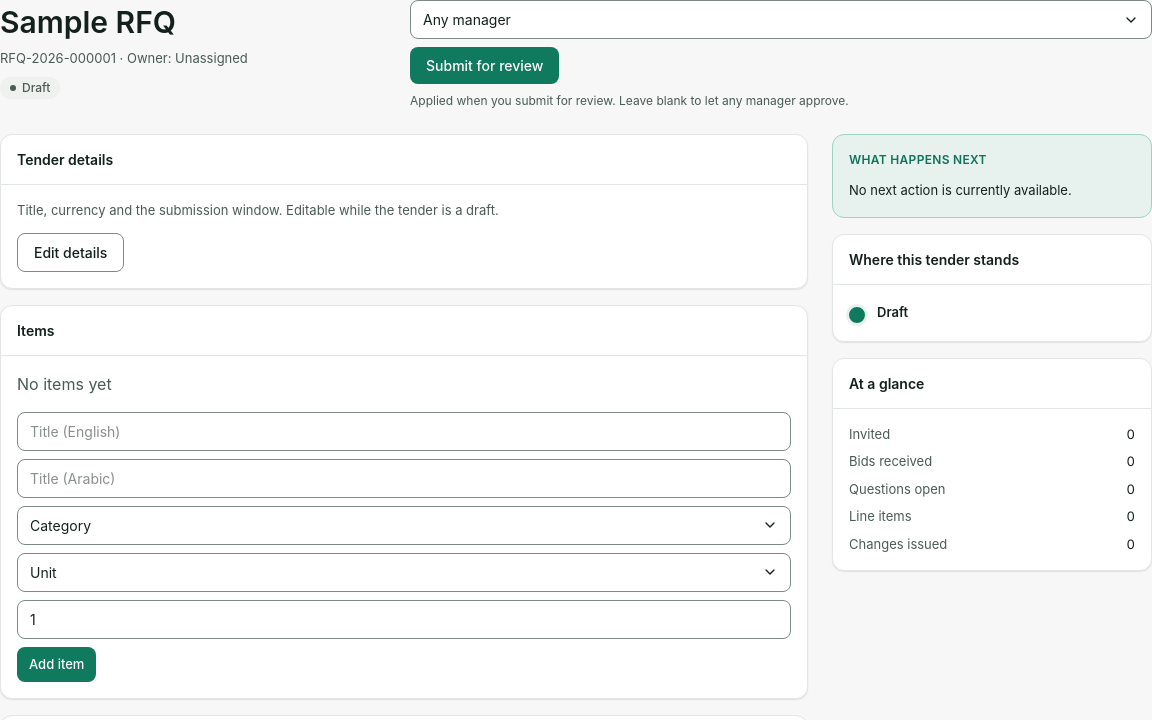
Test case: RfqDetailPage › Draft: shows editable item/requirement/template-bind controls, and adding an item succeeds
Expected: the button "Submit for review" is shown, [410,47,559,84]
Expected: the button "Add item" is shown, [17,646,96,682]
Type "Cleaning supplies" into the field labelled "Title (English)" at (404, 431), box [17,412,791,450]
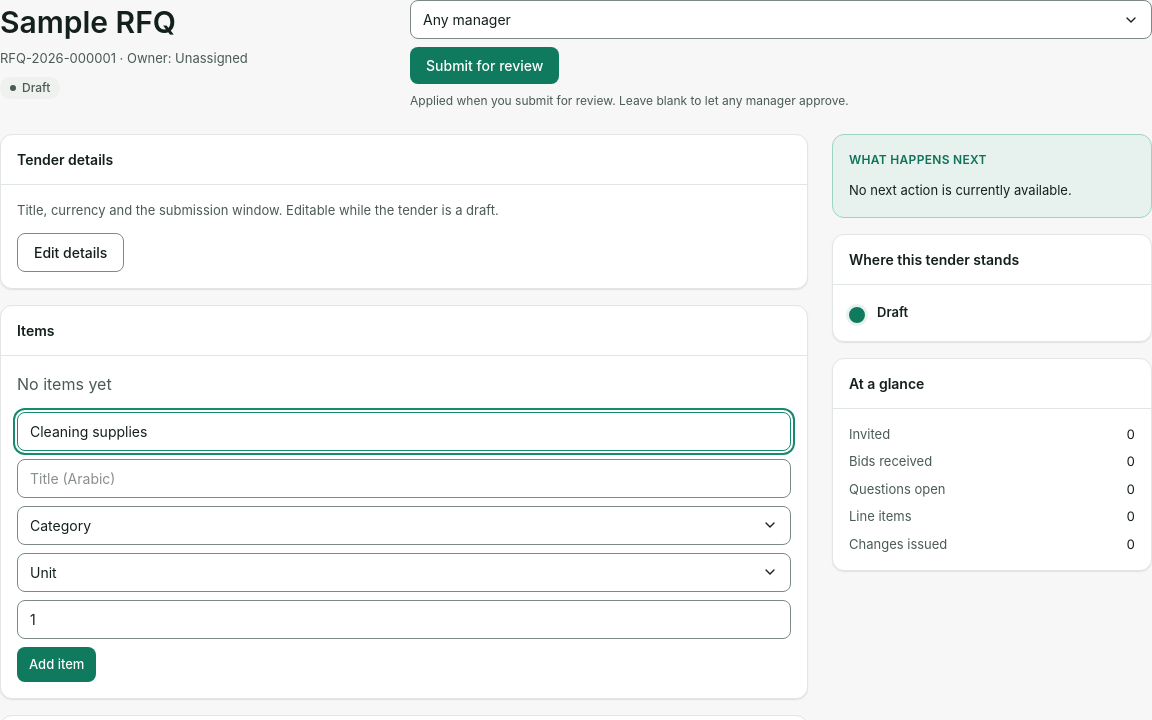
Type "مستلزمات تنظيف" into the field labelled "Title (Arabic)" at (404, 478), box [17,458,791,498]
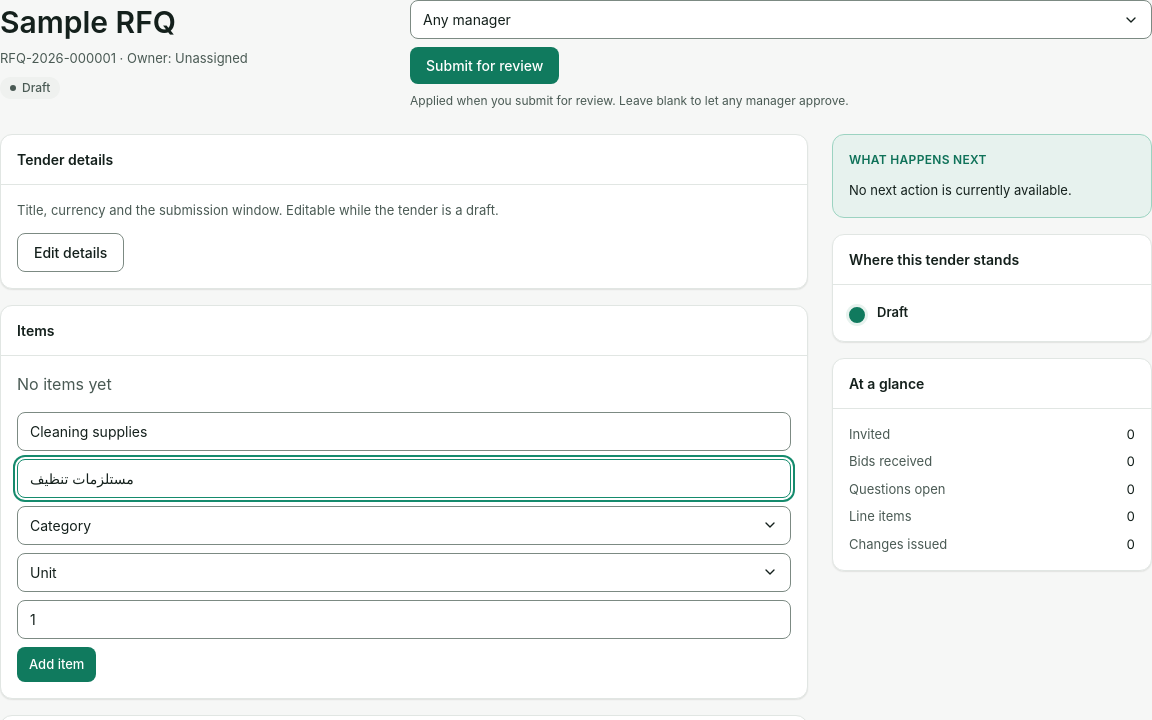
Click the button "Add item" at (57, 664), box [17,646,96,682]
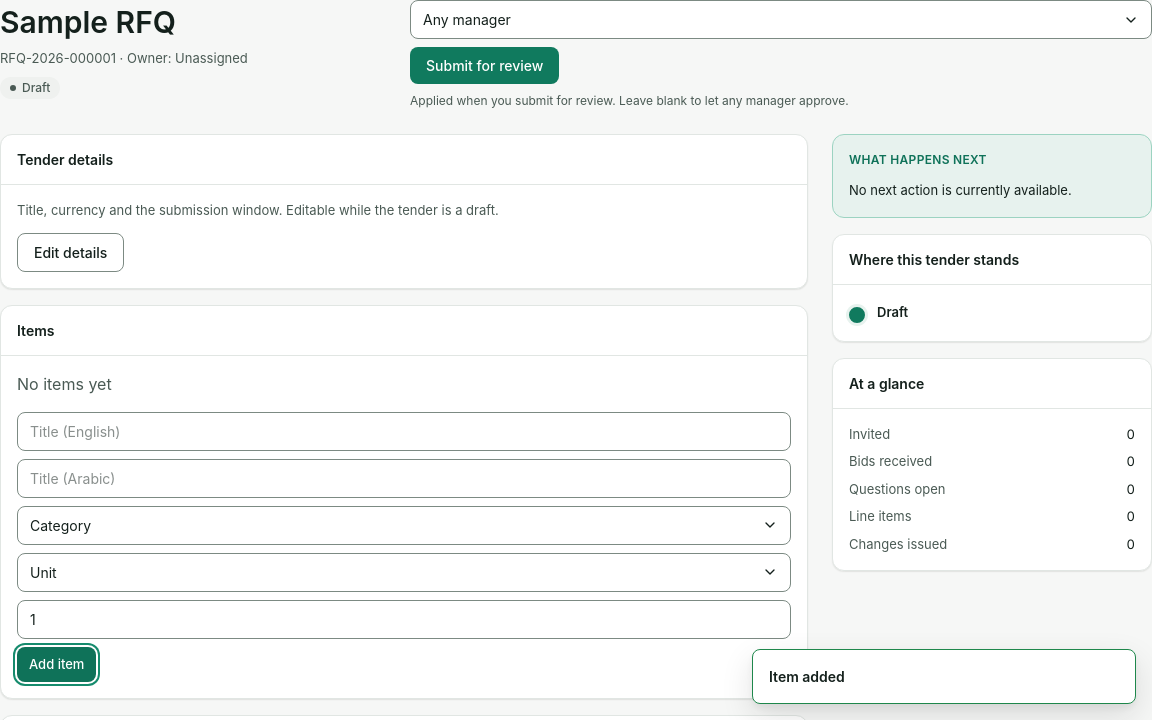
Now the text "Item added" is shown, box [769,668,845,685]
